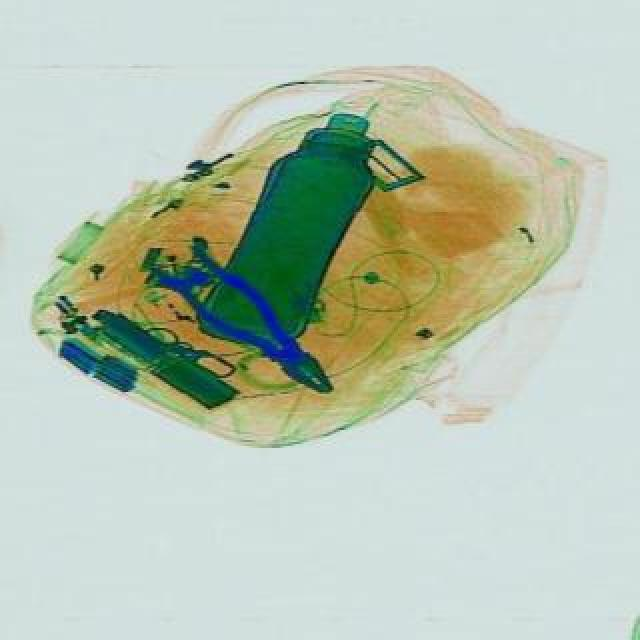wrench: (144, 230, 350, 412)
